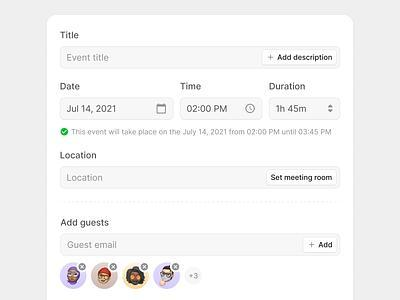button: (262, 50, 336, 66), (268, 171, 337, 186), (305, 237, 339, 254)
dropdown: (269, 98, 341, 121)
input: (61, 167, 341, 189), (63, 47, 340, 69), (60, 236, 342, 257), (61, 99, 175, 121), (181, 98, 264, 121)
label: (60, 219, 113, 229), (267, 82, 308, 93), (59, 153, 101, 161), (59, 28, 84, 41), (60, 82, 85, 93), (180, 82, 206, 92)
